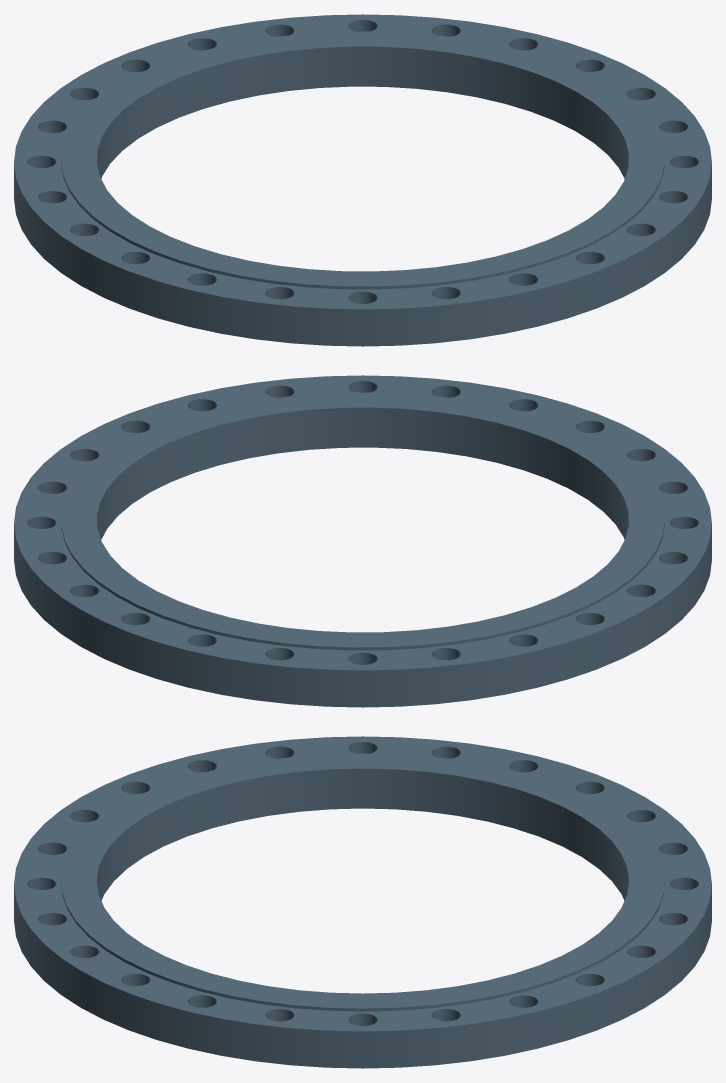
The model's file is flanec-ploskij-DN800-PN25.glb.
3 renders of one model, top to bottom at view 1: azimuth 30°, elevation 25°; view 2: azimuth 150°, elevation 25°; view 3: azimuth 270°, elevation 25°, orthographic.
Visible parts, largest first — view 1: Open CASCADE STEP translator 7.9 63; view 2: Open CASCADE STEP translator 7.9 63; view 3: Open CASCADE STEP translator 7.9 63.
Part boxes in pixels (left/top/right/bottom): Open CASCADE STEP translator 7.9 63: left=14, top=14, right=711, bottom=346; Open CASCADE STEP translator 7.9 63: left=14, top=375, right=711, bottom=707; Open CASCADE STEP translator 7.9 63: left=14, top=736, right=711, bottom=1068.
Size of the model in its own units: 1075 by 68 by 1075.
